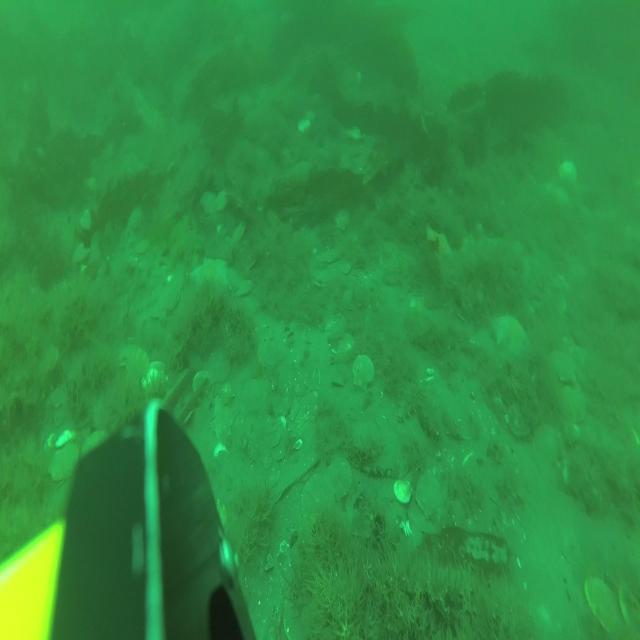holothurian: (395, 392, 421, 425)
scallop: (585, 572, 620, 640), (299, 469, 338, 522), (282, 588, 315, 640), (615, 579, 640, 640), (416, 466, 444, 519), (238, 376, 272, 418), (120, 338, 149, 387), (532, 419, 562, 464), (325, 456, 355, 501), (47, 443, 80, 483), (556, 385, 588, 424), (257, 333, 290, 370), (549, 346, 578, 386), (140, 359, 170, 397), (290, 389, 320, 425), (505, 401, 533, 438), (152, 281, 180, 318), (352, 350, 375, 392), (209, 345, 230, 384), (556, 156, 579, 188), (393, 474, 414, 509), (310, 265, 338, 290), (334, 330, 356, 358), (193, 366, 213, 396), (232, 274, 255, 299), (343, 286, 364, 312), (199, 190, 218, 216), (73, 242, 92, 268), (232, 216, 247, 248), (334, 206, 352, 232), (133, 237, 151, 260), (319, 246, 340, 265), (215, 188, 227, 213)
starfish: (493, 305, 530, 358), (189, 252, 229, 298)
